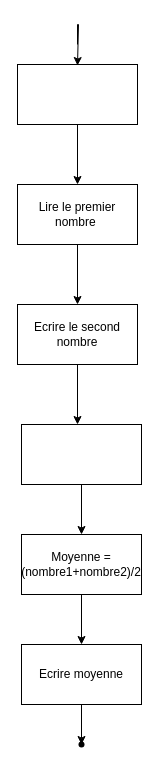
This 159x772 diagram has some shape labels left out. The box of each missing label's shape, as (x1, y1, x2, y2) in pixels:
Ecrire le premier nombre: (16, 64, 138, 124)
Lire le second nombre: (20, 424, 142, 484)
